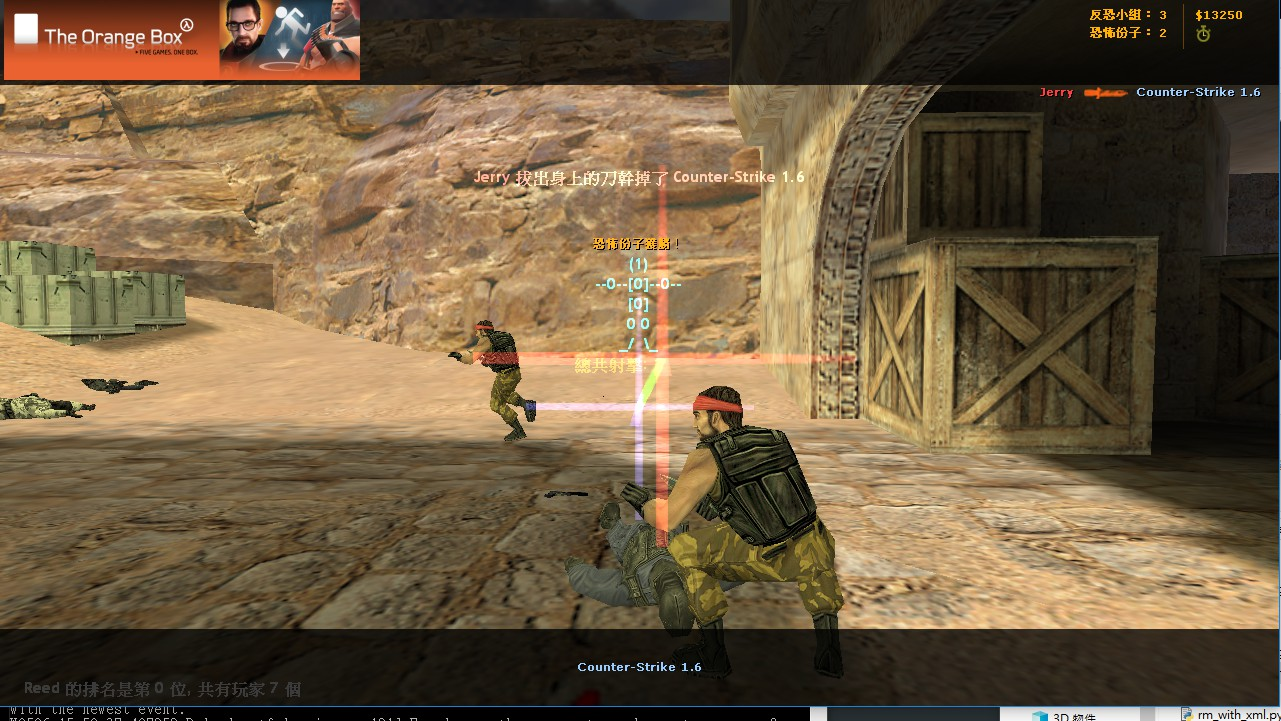person: (440, 307, 547, 451)
